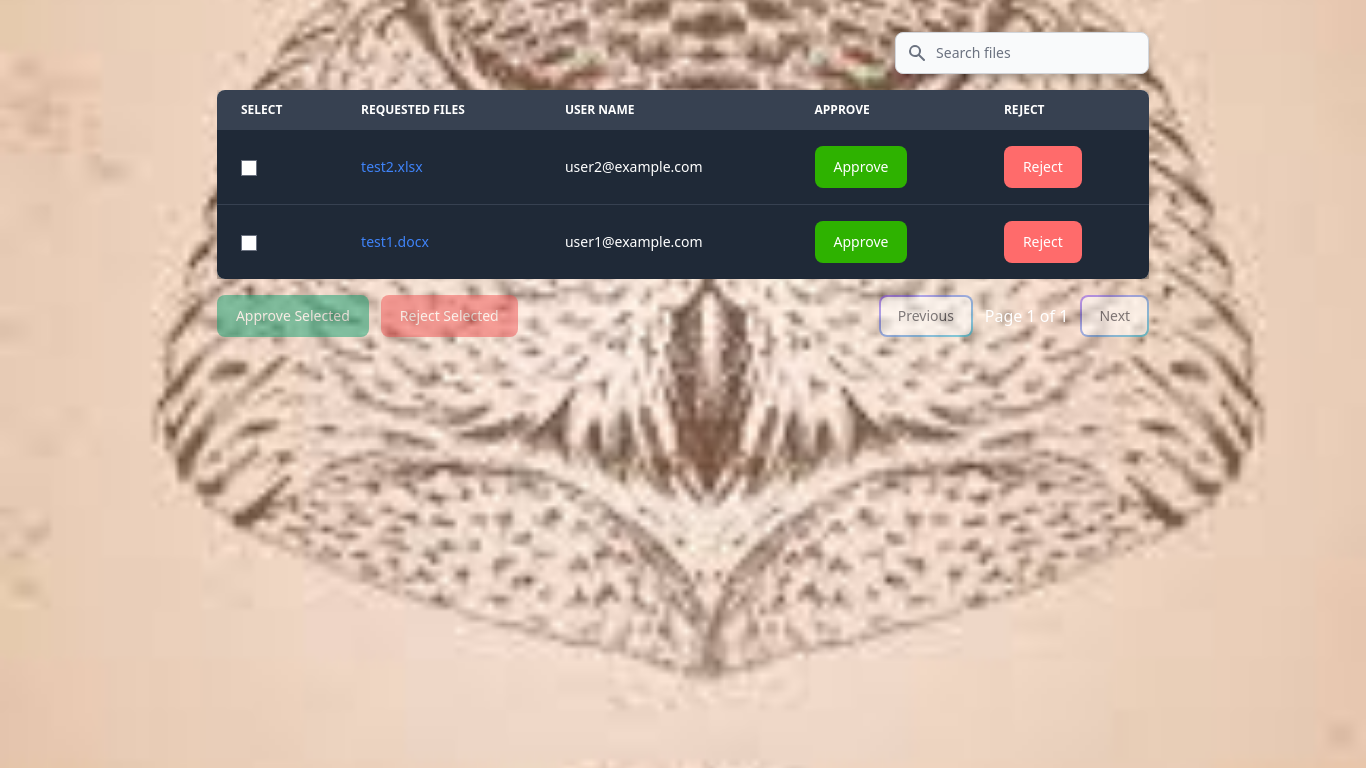
Test: DashRequest Component › handles search functionality
Check: the text "test1.docx" is shown, box [361,232,429,251]
Check: the text "test2.xlsx" is shown, box [361,157,423,176]
Get the search input and type into it
Type "test1" into the search field with placeholder "Search files".
click(1022, 53); type("test1")  # box [895,32,1149,74]
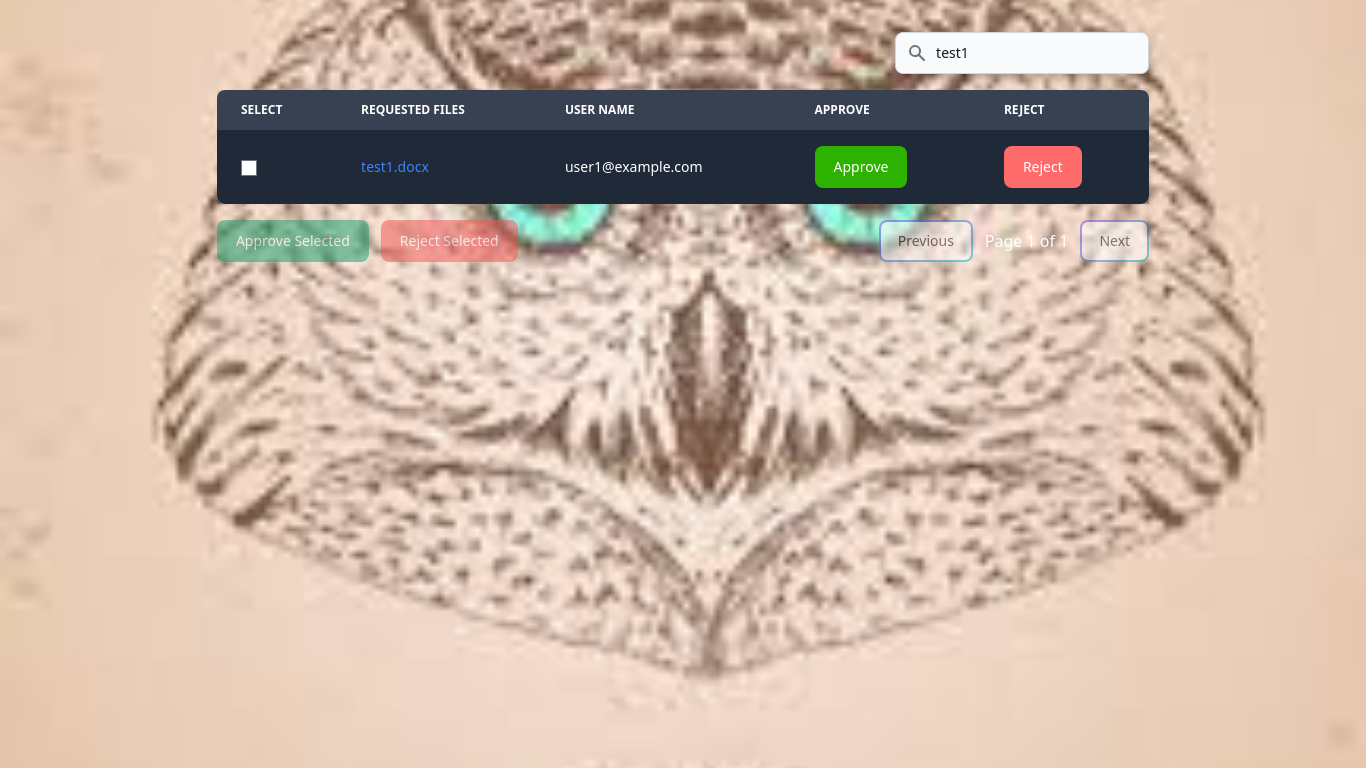
Check: the text "test1.docx" is shown, box [361,157,429,176]
Check: the text "test2.xlsx" is gone
